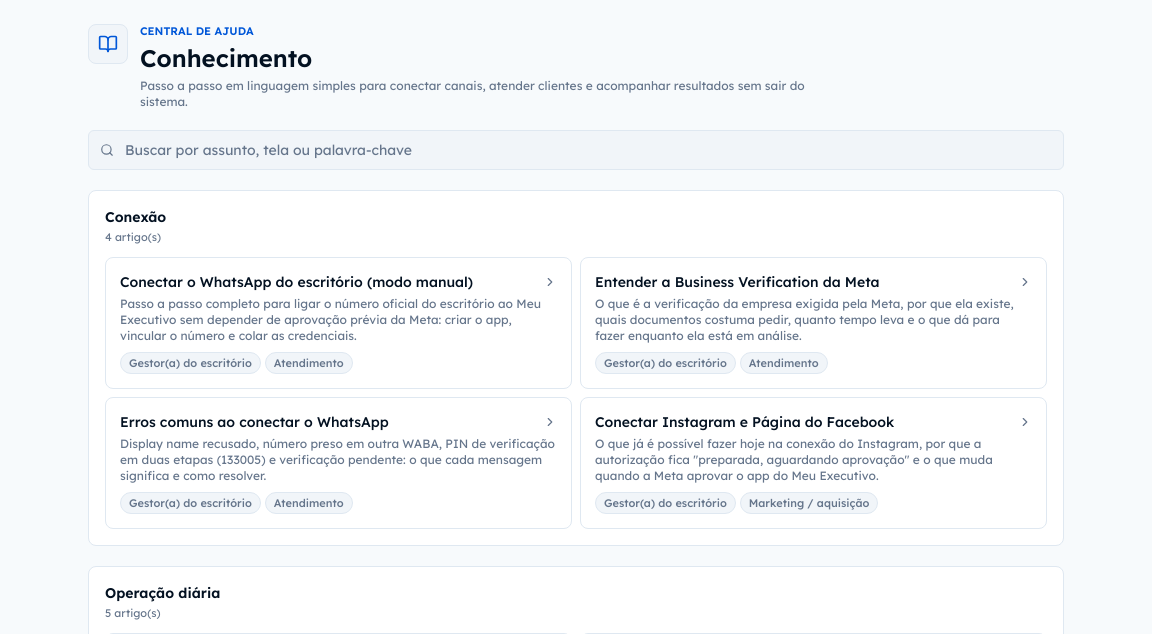
Test: KnowledgePage › shows an empty state when the search matches nothing
This screenshot has width=1152, height=634.
Type "assunto-inexistente-xyz" into the field named "Buscar artigos".
click(576, 150); type("assunto-inexistente-xyz")  # box [88,130,1064,170]
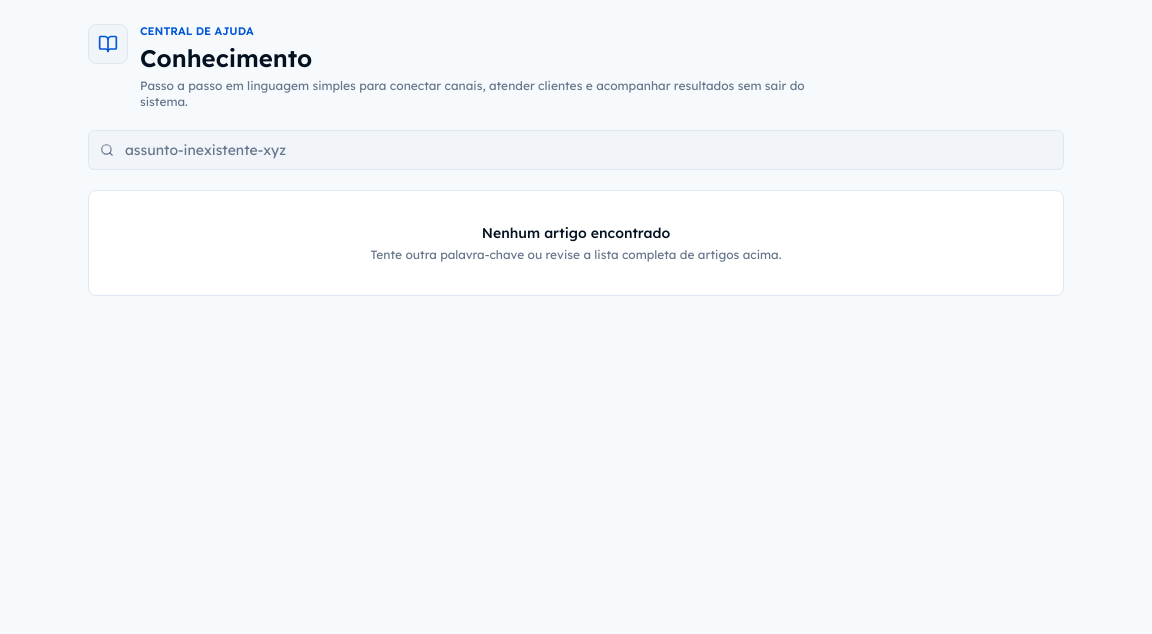
Expected: the text "Nenhum artigo encontrado" is shown, [482,224,670,242]
